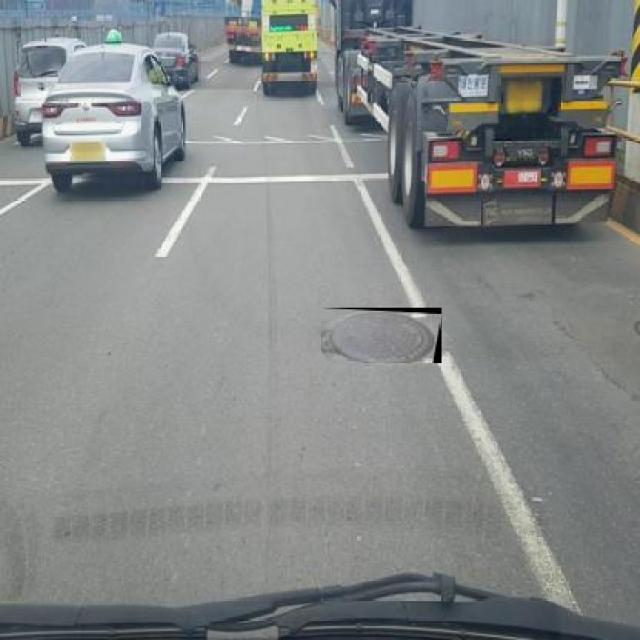Manhole: (320, 308, 442, 363)
